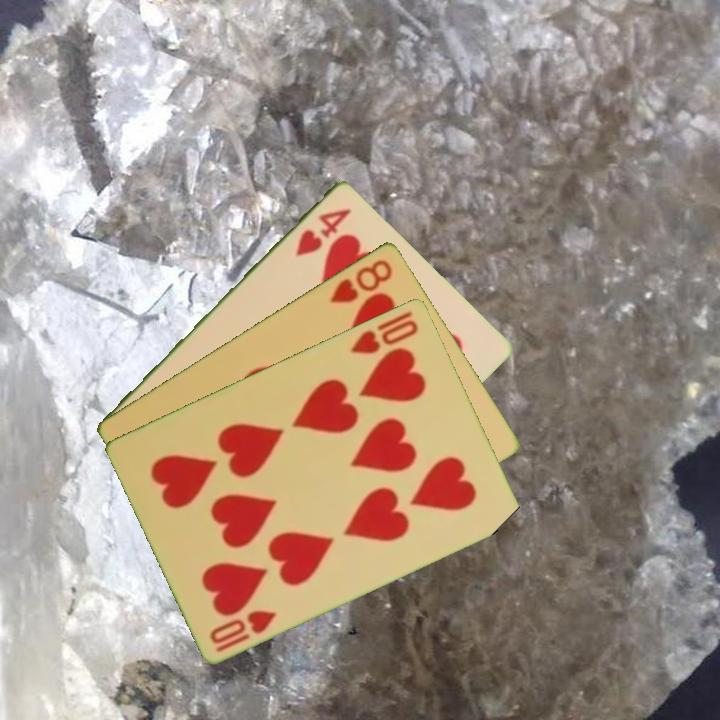10h: (347, 307, 422, 357), (206, 606, 279, 655)
4h: (292, 203, 355, 259)
8h: (326, 255, 396, 306)
